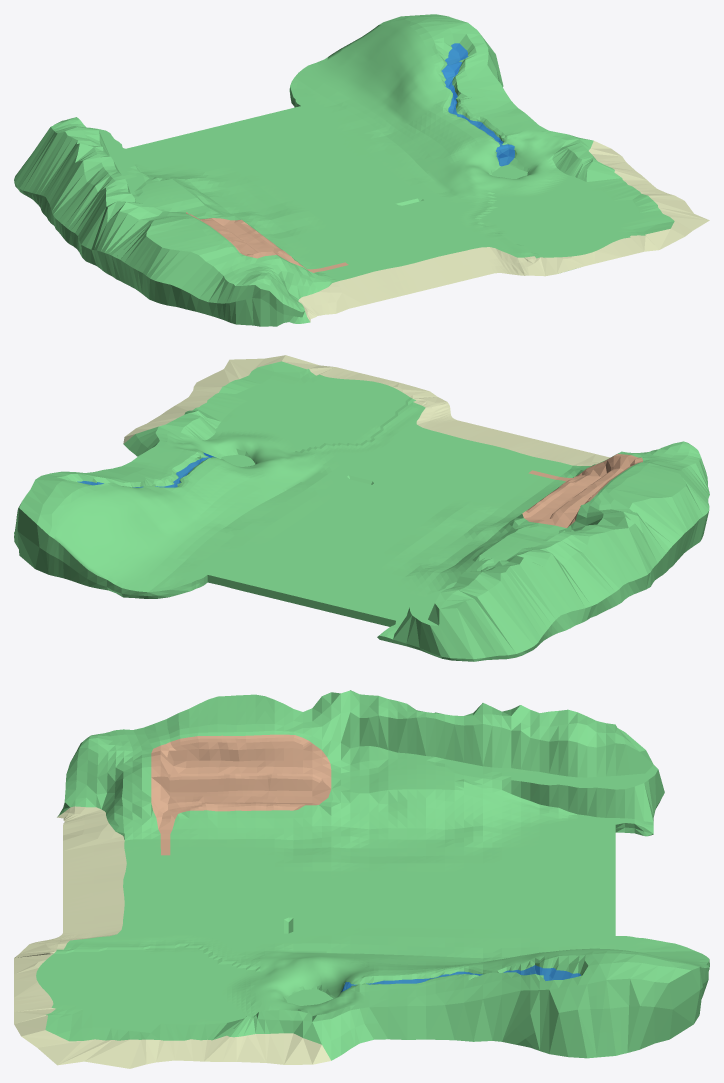
The model's file is Island.glb.
The picture shows the model from 3 angles, top to bottom: view 1: azimuth 30°, elevation 25°; view 2: azimuth 150°, elevation 25°; view 3: azimuth 270°, elevation 25°; orthographic projection. The views are drawn at different scales.
Visible parts, largest first — view 1: Island; view 2: Island; view 3: Island.
Part boxes in pixels (<box>): Island: <box>14,14,709,326</box>; Island: <box>14,355,709,661</box>; Island: <box>14,690,709,1068</box>.
Size of what is drawn, in the model's own units: 196 by 23.24 by 178.
